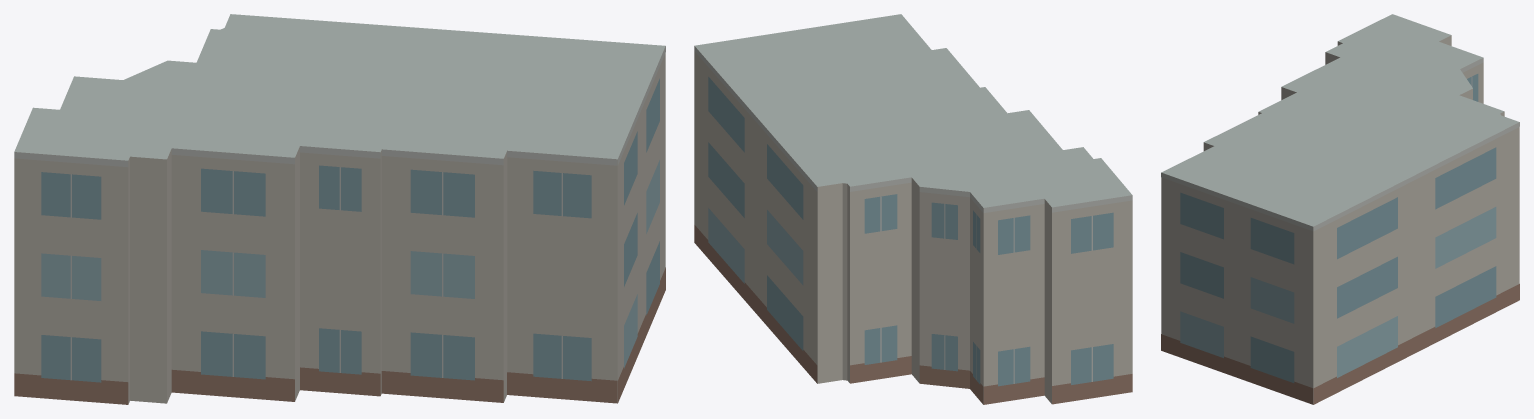
The model's file is survey-upis-33033422.glb.
3 views of the same model, side by side, from view 1: azimuth 30°, elevation 25°; view 2: azimuth 150°, elevation 25°; view 3: azimuth 270°, elevation 25° (orthographic). The views are drawn at different scales.
Parts seen in each view (by area): view 1: survey-upis-33033422.tmp; view 2: survey-upis-33033422.tmp; view 3: survey-upis-33033422.tmp.
Boxes of the visible parts, bbox=[...] form: survey-upis-33033422.tmp: bbox=[14, 14, 665, 404]; survey-upis-33033422.tmp: bbox=[694, 14, 1132, 404]; survey-upis-33033422.tmp: bbox=[1161, 14, 1519, 404].
Bounding box in the file's own units: 23.44 × 9.15 × 16.69.
